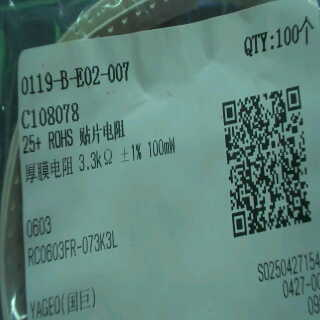3.3kO: (75, 147, 118, 175)
